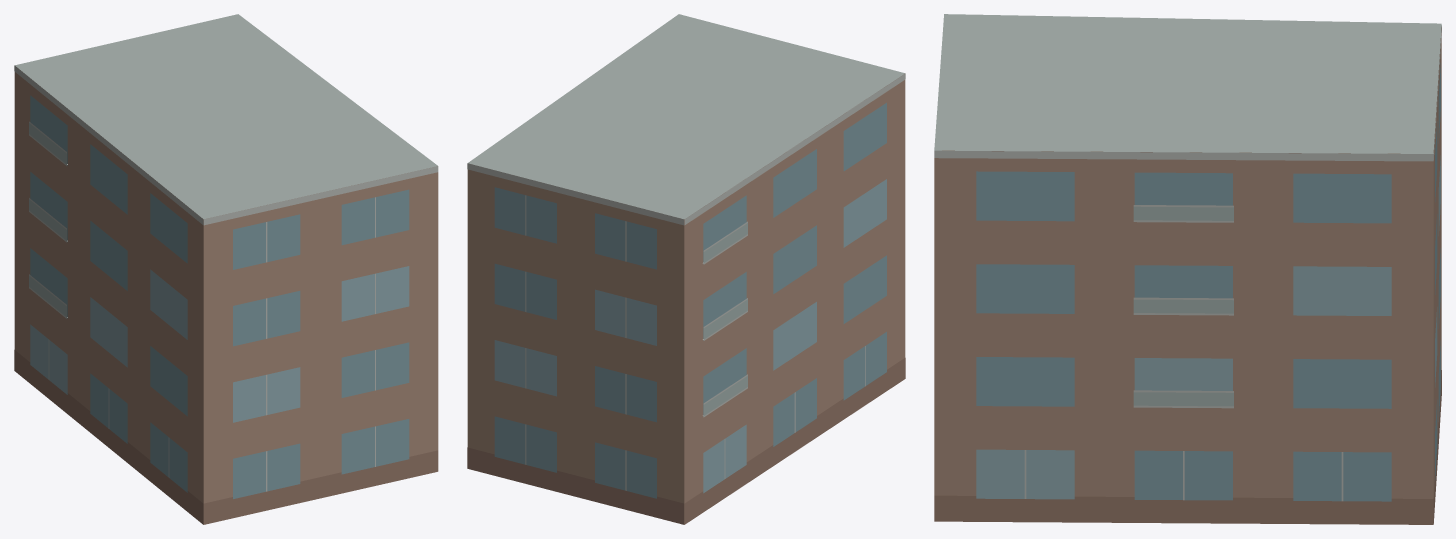
The model's file is survey-upis-32664937.glb.
3 views of the same model, side by side, from view 1: azimuth 30°, elevation 25°; view 2: azimuth 150°, elevation 25°; view 3: azimuth 270°, elevation 25° (orthographic). The views are drawn at different scales.
Parts seen in each view (by area): view 1: survey-upis-32664937.tmp; view 2: survey-upis-32664937.tmp; view 3: survey-upis-32664937.tmp.
Boxes of the visible parts, box(x1,y1,x2,y2) form: survey-upis-32664937.tmp: box(14, 14, 438, 524); survey-upis-32664937.tmp: box(467, 14, 905, 524); survey-upis-32664937.tmp: box(934, 14, 1441, 524).
Bounding box in the file's own units: 9.81 × 12.1 × 15.02.
